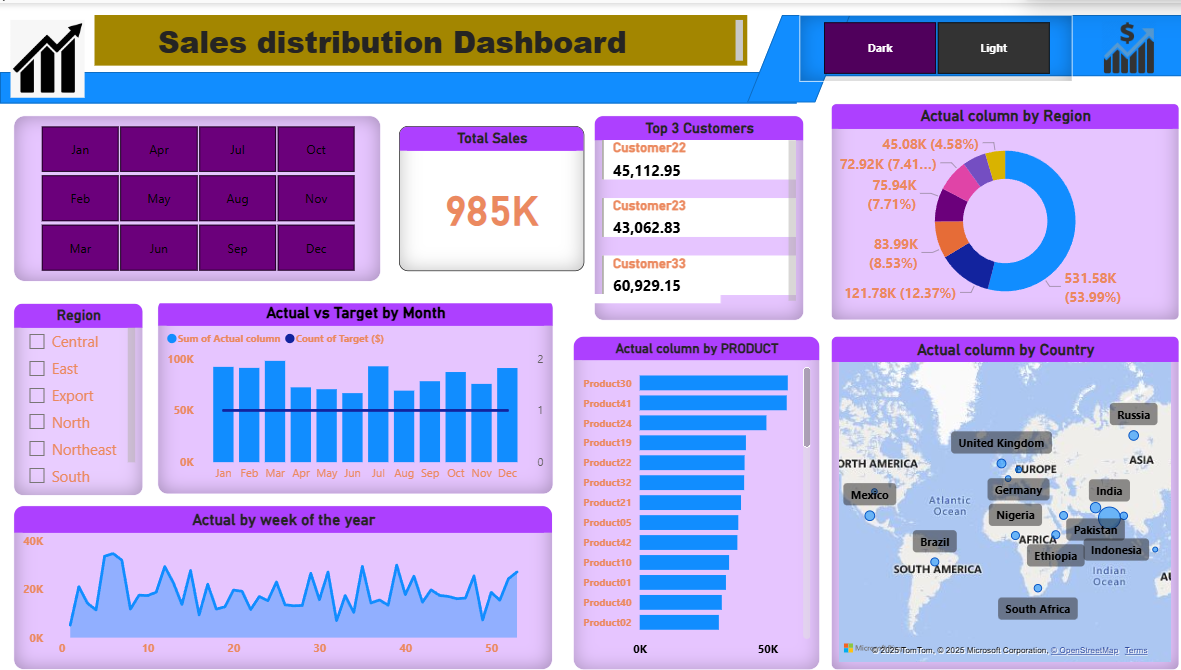

The page's visual inventory and layout, read from the dashboard file:
{"tool":"powerbi","page":{"name":"Sales Distribution_Dashboard","canvas":[1280,720],"ordinal":0},"visuals":[{"type":"slicer","fields":{"Values":["InputData.Month name"]},"box":[15.1,120.9,396.9,179.5],"z":0},{"type":"card","title":"Total Sales","fields":{"Values":["Sum(InputData.Actual column)"]},"box":[430.9,132.3,200.3,156.9],"z":1000},{"type":"slicer","title":"Region","fields":{"Values":["Country.Region"]},"box":[15.1,323.2,139.8,207.9],"z":2000},{"type":"lineStackedColumnComboChart","title":"Actual vs Target by Month ","fields":{"Category":["TargetData.Month Name"],"Y":["Sum(InputData.Actual column)"],"Y2":["CountNonNull(TargetData.Target ($))"]},"box":[170.1,319.4,427.1,211.7],"z":3000},{"type":"areaChart","title":"Actual by week of the year","fields":{"Category":["InputData.week of the year"],"Y":["Sum(InputData.Actual column)"]},"box":[15.1,542.4,582.1,177.6],"z":4000},{"type":"multiRowCard","title":"Top 3 Customers","fields":{"Values":["Country.Customer Name","Sum(InputData.Actual column)"]},"box":[640.6,120.9,226.8,221.1],"z":5000},{"type":"clusteredBarChart","title":"Actual column by PRODUCT","fields":{"Category":["InputData.PRODUCT"],"Y":["Sum(InputData.Actual column)"]},"box":[618,359.1,266.5,360.9],"z":6000},{"type":"donutChart","title":"Actual column by Region","fields":{"Category":["Country.Region"],"Y":["Sum(InputData.Actual column)"]},"box":[897.6,107.7,376.1,234.3],"z":7000},{"type":"map","title":"Actual column by Country","fields":{"Category":["Country.Country"],"Size":["Sum(InputData.Actual column)"]},"box":[897.6,359.1,376.1,360.9],"z":8000},{"type":"shape","box":[0,73.7,859.8,34],"z":9000},{"type":"shape","box":[884.4,13.2,395,66.1],"z":10000},{"type":"shape","box":[806.9,13.2,111.5,94.5],"z":11000},{"type":"textbox","box":[15.1,313.7,763.5,9.4],"z":12000},{"type":"textbox","box":[102,13.2,704.9,54.8],"z":13000},{"type":"image","box":[0,13.2,102,94.5],"z":14000},{"type":"image","box":[1183,13.2,69.9,71.8],"z":15000},{"type":"slicer","fields":{"Values":["Theme.Theme"]},"box":[863.6,13.2,294.8,71.8],"z":16000}]}

Visuals, with their boxes in screenshot pixels (x1, y1, x2, y2), scaled from the page's 1280x720 canvas onto the 1181x670 screenshot:
slicer - InputData.Month name: bbox=(14, 113, 380, 280)
"Total Sales" card: bbox=(398, 123, 582, 269)
"Region" slicer: bbox=(14, 301, 143, 494)
"Actual vs Target by Month " lineStackedColumnComboChart: bbox=(157, 297, 551, 494)
"Actual by week of the year" areaChart: bbox=(14, 505, 551, 669)
"Top 3 Customers" multiRowCard: bbox=(591, 113, 800, 318)
"Actual column by PRODUCT" clusteredBarChart: bbox=(570, 334, 816, 669)
"Actual column by Region" donutChart: bbox=(828, 100, 1175, 318)
"Actual column by Country" map: bbox=(828, 334, 1175, 669)
shape: bbox=(0, 69, 793, 100)
shape: bbox=(816, 12, 1180, 74)
shape: bbox=(744, 12, 847, 100)
textbox: bbox=(14, 292, 718, 301)
textbox: bbox=(94, 12, 744, 63)
image: bbox=(0, 12, 94, 100)
image: bbox=(1092, 12, 1156, 79)
slicer - Theme.Theme: bbox=(797, 12, 1069, 79)
